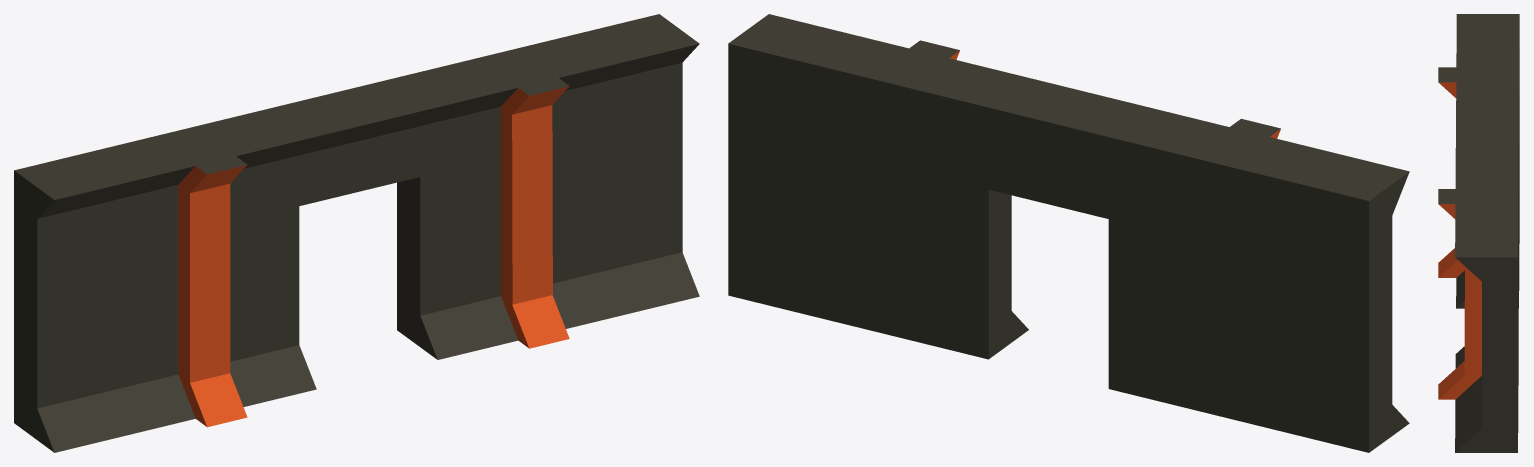
File: WallShortDoor.fbx
The picture shows the model from 3 angles, left to right: view 1: azimuth 30°, elevation 25°; view 2: azimuth 150°, elevation 25°; view 3: azimuth 270°, elevation 25°; orthographic projection. The views are drawn at different scales.
Parts seen in each view (by area): view 1: WallSmallDoor; view 2: WallSmallDoor; view 3: WallSmallDoor.
Part boxes in pixels (left/top/right/bottom): WallSmallDoor: left=14, top=14, right=699, bottom=452; WallSmallDoor: left=728, top=14, right=1409, bottom=452; WallSmallDoor: left=1438, top=14, right=1519, bottom=452.
Bounding box in the file's own units: 800 × 300 × 113.
